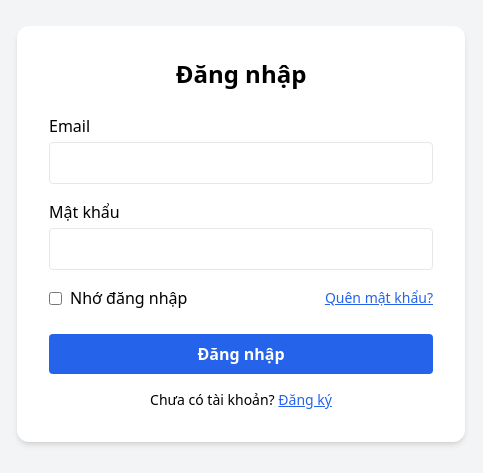
Test: LoginPage › báo lỗi email không hợp lệ
Type "invalid-email" into the field labelled "Email".
click(241, 163); type("invalid-email")  # box [49,142,433,184]
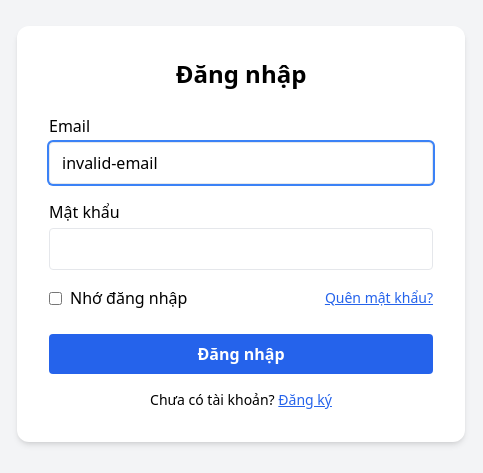
Type "12345678" into the password field labelled "Mật khẩu".
click(241, 249); type("12345678")  # box [49,228,433,270]
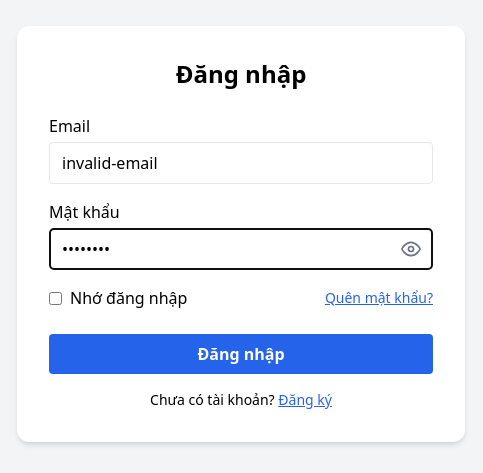
Submit the form with test id "form-login"
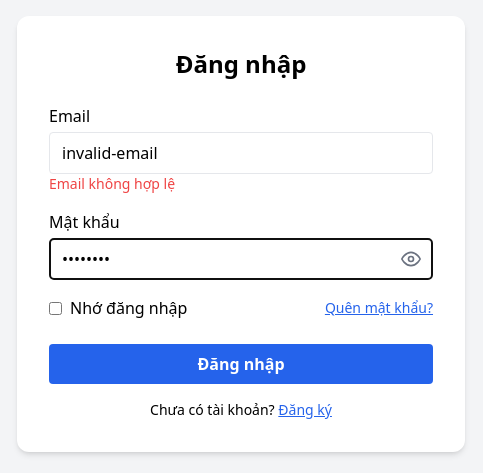
Now the text "Email không hợp lệ" is shown, box [49,174,175,193]
